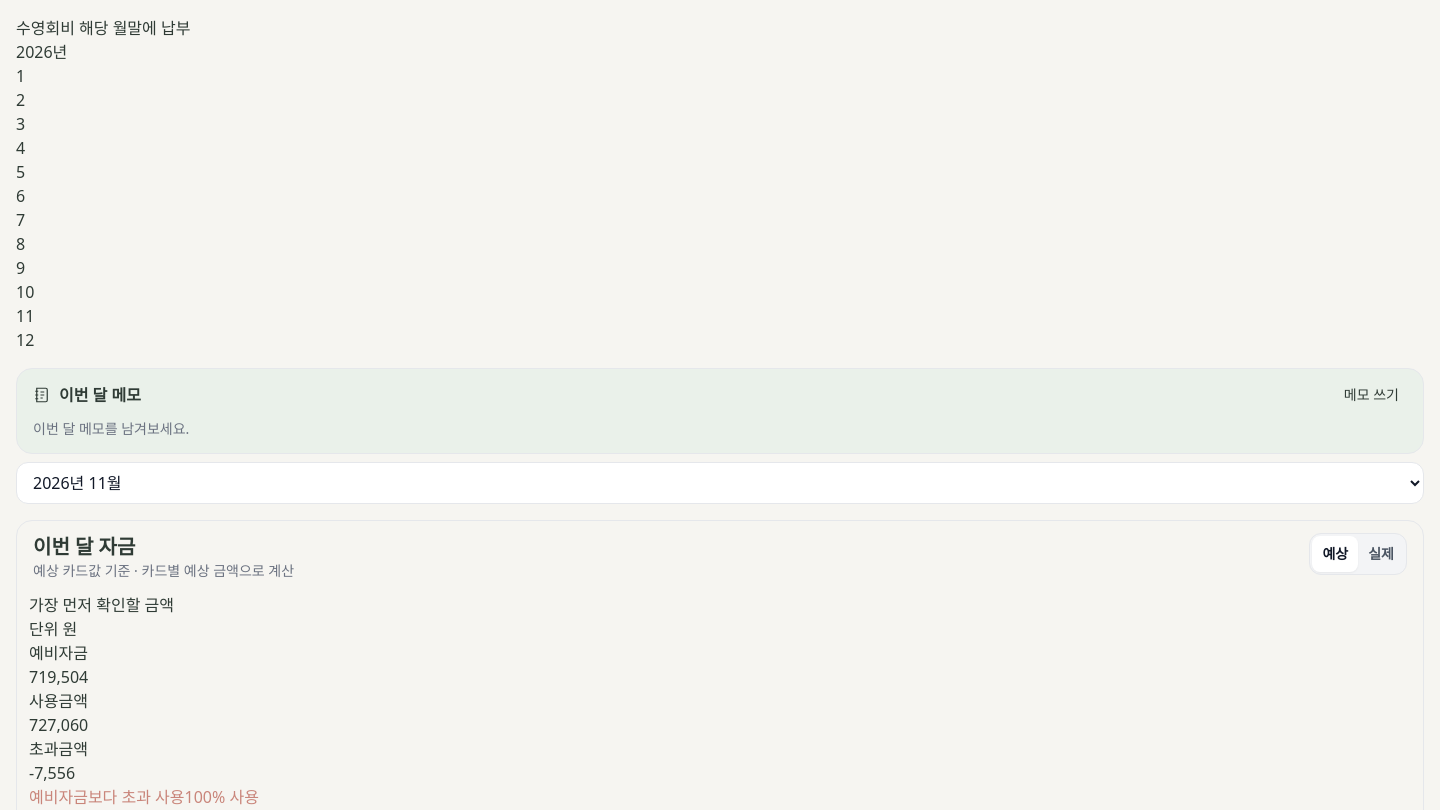
it: DashboardPage › shows the unified funds headline below the memo and updates it with the selected scenario without changing data
The width and height of the screenshot is (1440, 810).
Expected: the text "719,504" is shown, top-left (29, 666), bottom-right (88, 688)
Expected: the text "727,060" is shown, top-left (29, 714), bottom-right (88, 736)
Click the button "실제" at coordinates (1381, 554), box top-left (1358, 536), bottom-right (1404, 572)
(page scrolled)
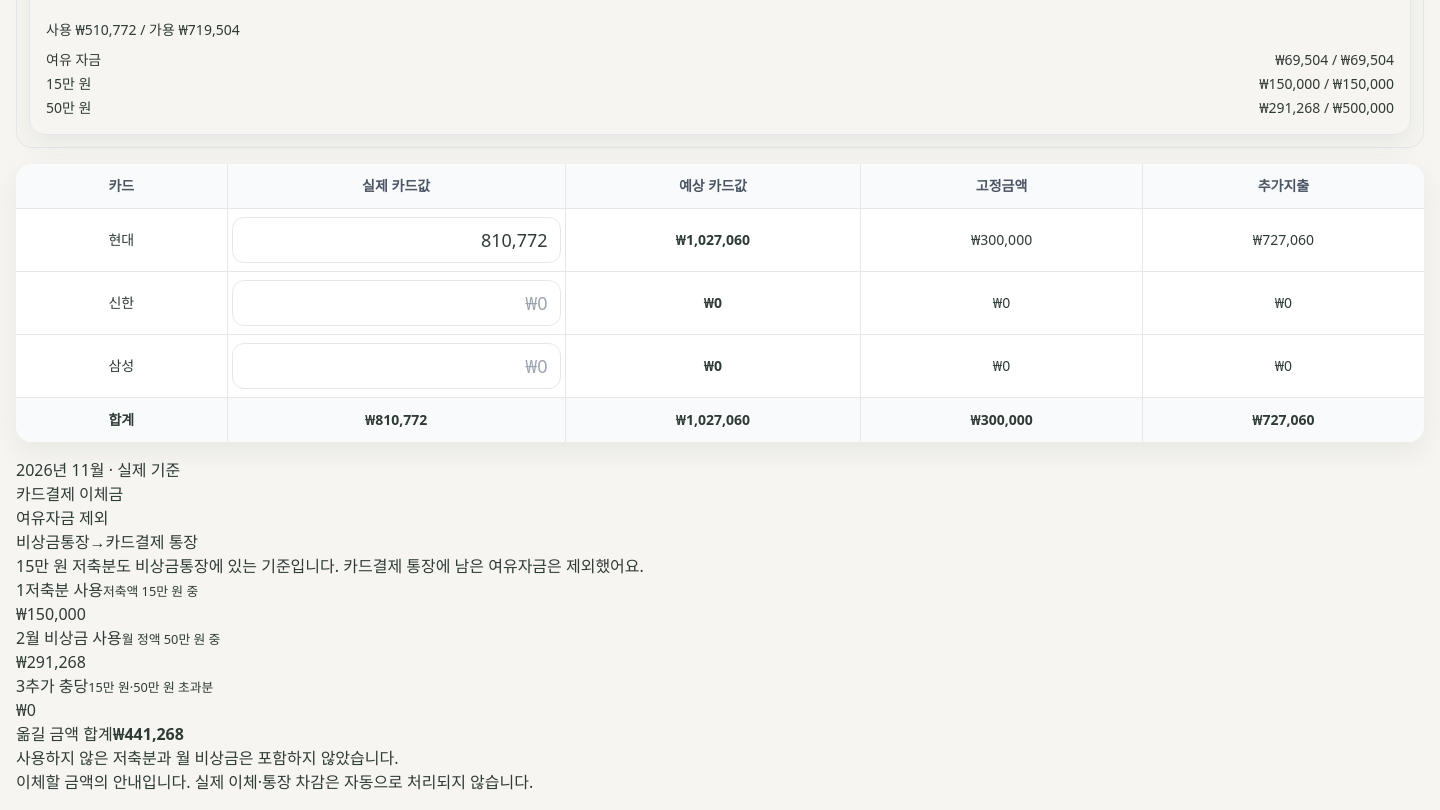
Expected: the text "초과금액" is gone
Expected: the text "₩441,268" is shown, top-left (113, 723), bottom-right (184, 745)
Expected: the text "₩291,268" is shown, top-left (16, 651), bottom-right (86, 673)
